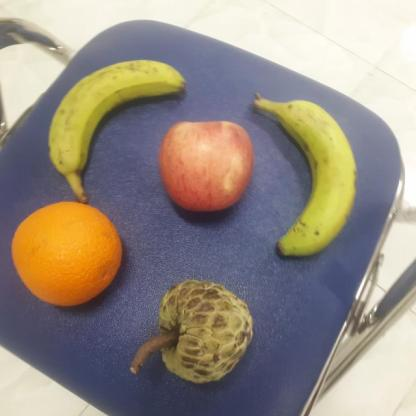annona: (156, 278, 253, 382)
apple: (157, 119, 260, 213)
banana: (47, 55, 189, 185), (253, 95, 359, 257)
orange: (10, 200, 125, 310)
